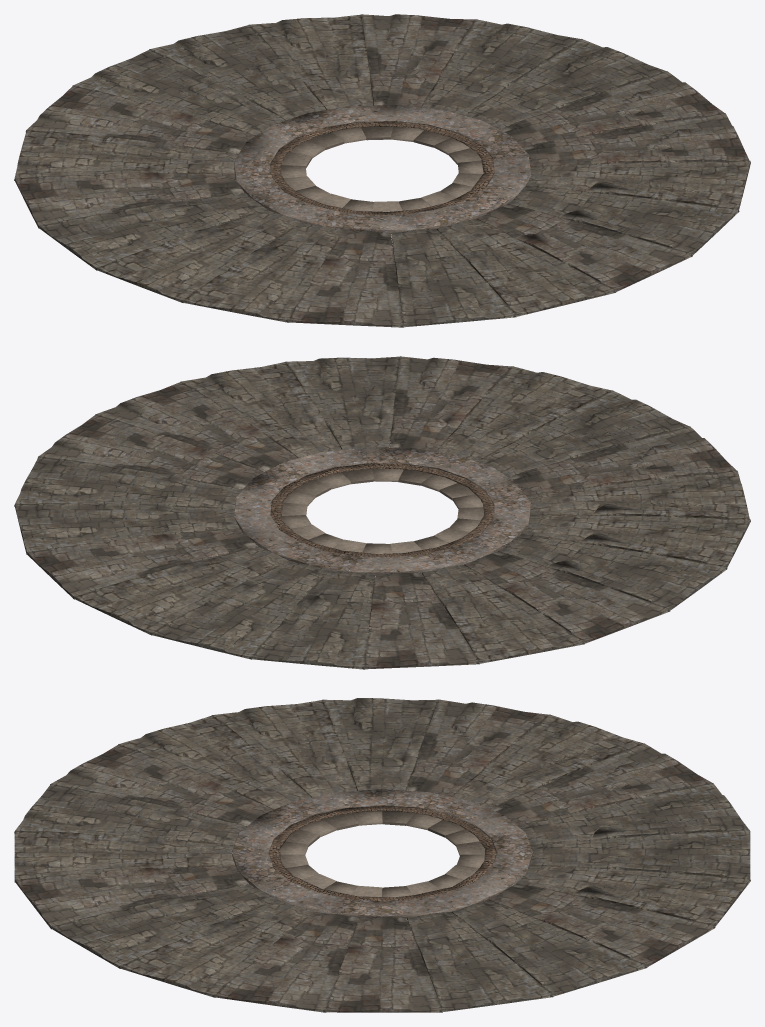
Rendered from P_BossCemetery_04.fbx.
The picture shows the model from 3 angles, top to bottom: view 1: azimuth 30°, elevation 25°; view 2: azimuth 150°, elevation 25°; view 3: azimuth 270°, elevation 25°; orthographic projection.
Parts seen in each view (by area): view 1: P_BossCemetery_04; view 2: P_BossCemetery_04; view 3: P_BossCemetery_04.
Part boxes in pixels (<box>): P_BossCemetery_04: <box>14,14,750,327</box>; P_BossCemetery_04: <box>14,356,750,669</box>; P_BossCemetery_04: <box>14,698,750,1012</box>.
Size of the model in its own units: 3459 by 27.94 by 3459.
